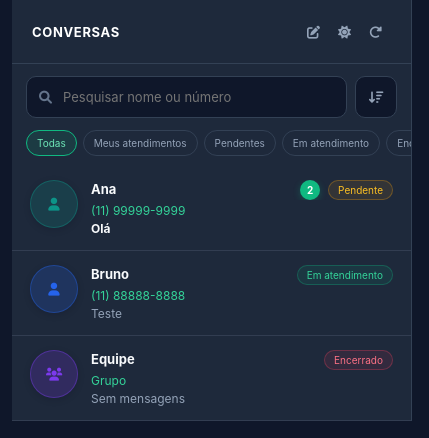
Test: ChatList › pesquisa e filtra atendimentos
Step 1. Type "Ana" into the search field named "Pesquisar conversas" → coordinates (198, 97), box [61,77,334,117]
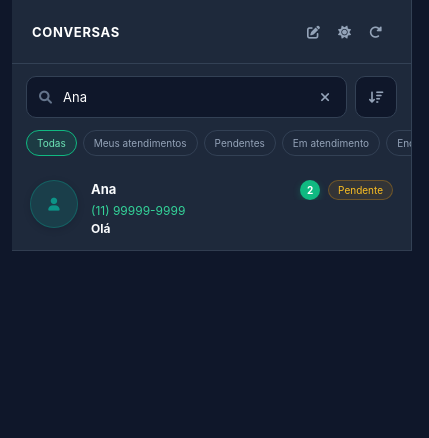
Expected: the text "Ana" is shown, [91,181,116,197]
Now the button "Bruno" is gone
Step 2. Clear the search field named "Pesquisar conversas" → coordinates (184, 97), box [61,77,307,117]
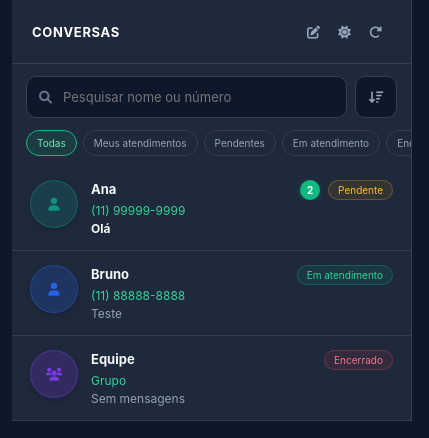
Step 3. Click the button "Meus atendimentos" → coordinates (140, 143), box [83,130,198,156]
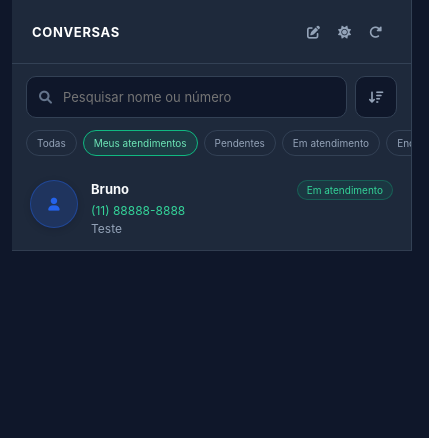
Now the text "Bruno" is shown, box [91,181,129,197]
Now the button "Ana" is gone
